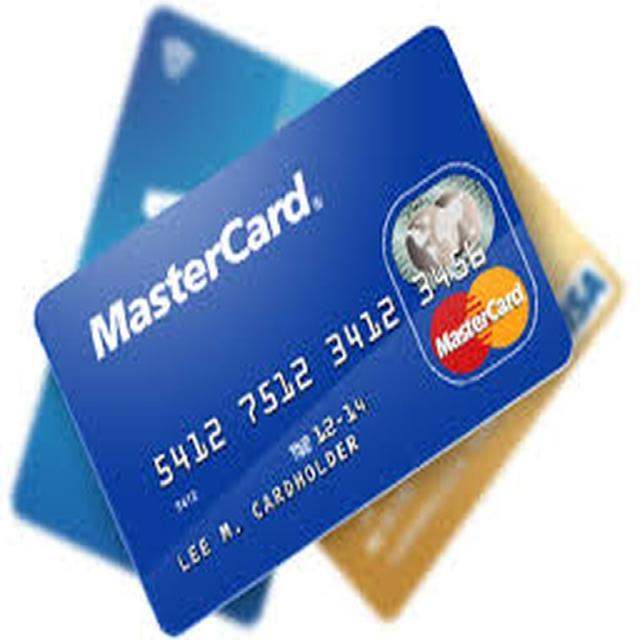card: (56, 12, 482, 634), (12, 22, 300, 620), (309, 129, 634, 623)
